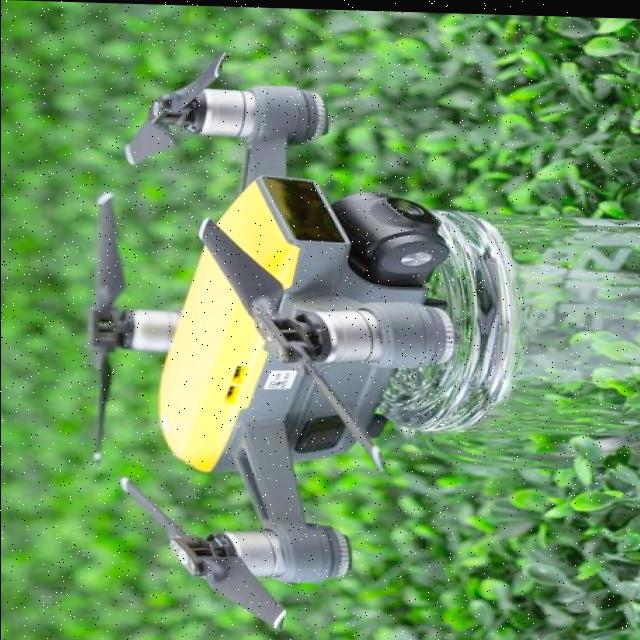drone: (62, 51, 470, 637)
